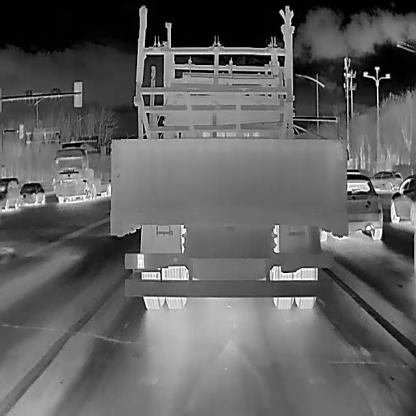car: (319, 172, 383, 242), (390, 173, 416, 228), (366, 169, 404, 196), (0, 176, 20, 210), (19, 182, 45, 206)
truck: (106, 63, 348, 309), (52, 140, 110, 202)
